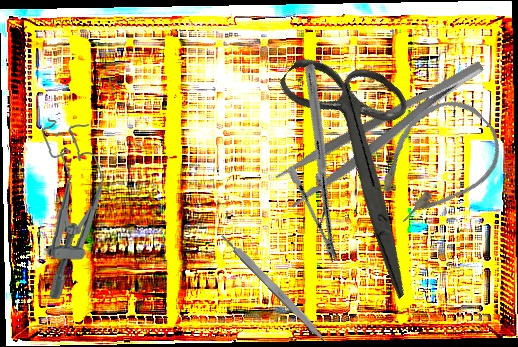Cannula: (355, 82, 517, 242)
Dressing Forceps: (273, 56, 497, 209)
Iris Scissors: (221, 27, 503, 300)
Needle Holder: (228, 62, 415, 265)
Scalpel Handle: (219, 231, 329, 343)
Speculum: (35, 117, 106, 301)
